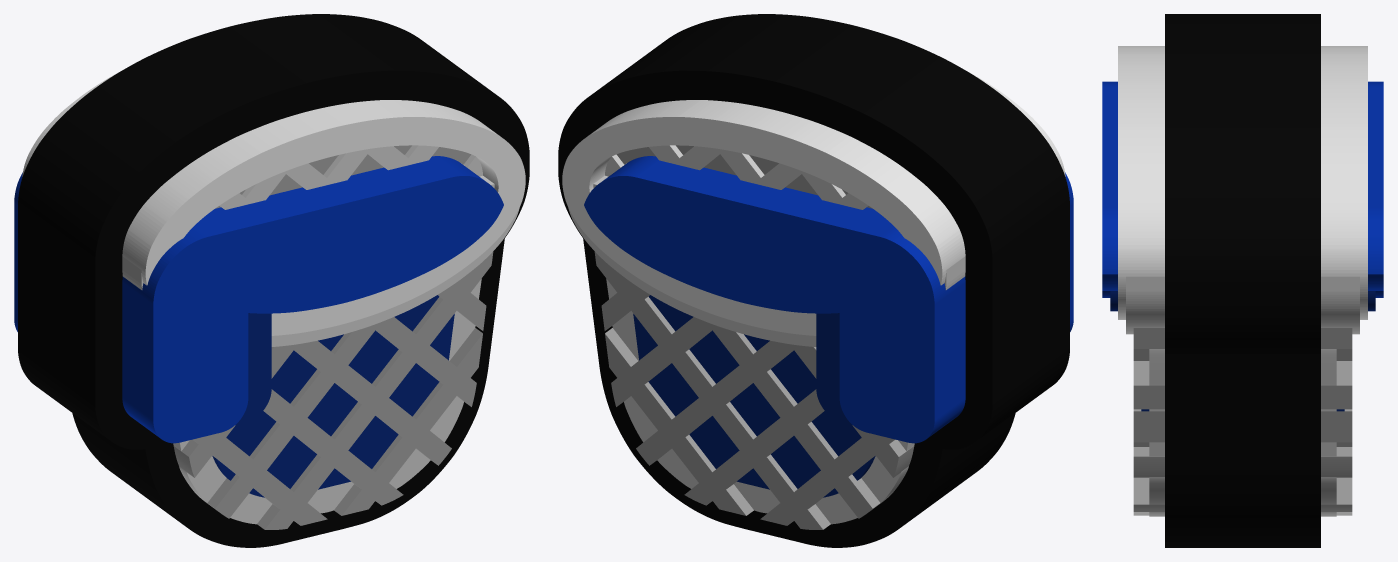
The picture shows the model from 3 angles, left to right: view 1: azimuth 30°, elevation 25°; view 2: azimuth 150°, elevation 25°; view 3: azimuth 270°, elevation 25°; orthographic projection.
Parts seen in each view (by area): view 1: U+1F9FA_layer00_obj00, U+1F9FA_layer08_obj00, U+1F9FA_layer04_obj00, U+1F9FA_layer06_obj00, U+1F9FA_layer03_obj00, U+1F9FA_layer02_obj00, U+1F9FA_layer05_obj00, U+1F9FA_layer07_obj00, U+1F9FA_layer01_obj00; view 2: U+1F9FA_layer00_obj00, U+1F9FA_layer08_obj00, U+1F9FA_layer04_obj00, U+1F9FA_layer06_obj00, U+1F9FA_layer03_obj00, U+1F9FA_layer02_obj00, U+1F9FA_layer05_obj00, U+1F9FA_layer07_obj00, U+1F9FA_layer01_obj00; view 3: U+1F9FA_layer00_obj00, U+1F9FA_layer06_obj00, U+1F9FA_layer04_obj00, U+1F9FA_layer08_obj00, U+1F9FA_layer05_obj00, U+1F9FA_layer02_obj00.
Boxes of the visible parts, <box> form: U+1F9FA_layer00_obj00: <box>18,14,529,547</box>; U+1F9FA_layer08_obj00: <box>14,156,503,443</box>; U+1F9FA_layer04_obj00: <box>173,251,493,529</box>; U+1F9FA_layer06_obj00: <box>22,72,525,335</box>; U+1F9FA_layer03_obj00: <box>212,295,454,497</box>; U+1F9FA_layer02_obj00: <box>173,145,482,524</box>; U+1F9FA_layer05_obj00: <box>122,175,519,346</box>; U+1F9FA_layer07_obj00: <box>235,313,271,425</box>; U+1F9FA_layer01_obj00: <box>215,145,471,208</box>; U+1F9FA_layer00_obj00: <box>558,14,1069,547</box>; U+1F9FA_layer08_obj00: <box>584,156,1073,443</box>; U+1F9FA_layer04_obj00: <box>594,251,914,529</box>; U+1F9FA_layer06_obj00: <box>562,72,1065,335</box>; U+1F9FA_layer03_obj00: <box>633,295,875,497</box>; U+1F9FA_layer02_obj00: <box>605,145,914,524</box>; U+1F9FA_layer05_obj00: <box>568,175,965,346</box>; U+1F9FA_layer07_obj00: <box>816,313,852,425</box>; U+1F9FA_layer01_obj00: <box>616,145,872,208</box>; U+1F9FA_layer00_obj00: <box>1165,14,1320,547</box>; U+1F9FA_layer06_obj00: <box>1118,46,1367,319</box>; U+1F9FA_layer04_obj00: <box>1133,328,1352,515</box>; U+1F9FA_layer08_obj00: <box>1102,81,1383,297</box>; U+1F9FA_layer05_obj00: <box>1126,276,1359,334</box>; U+1F9FA_layer02_obj00: <box>1149,349,1336,516</box>.
Size of the model in its own units: 0.6491 by 0.649 by 0.36.
